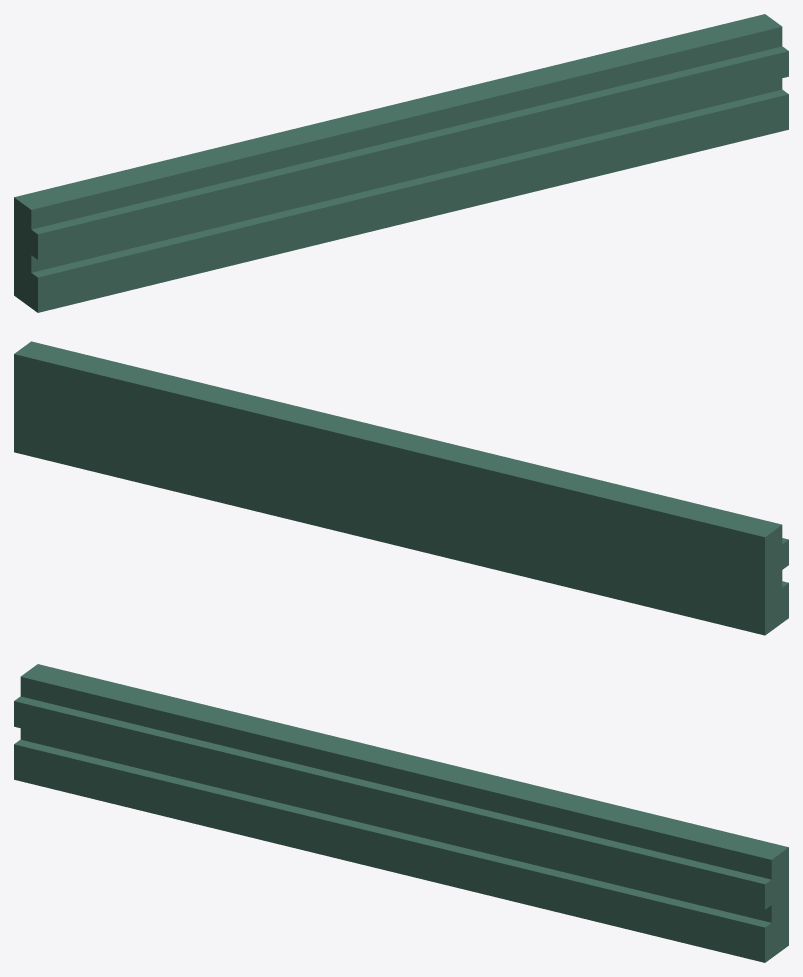
File: SM_Wall_Shutter_Rolled_01.fbx
The picture shows the model from 3 angles, top to bottom: view 1: azimuth 30°, elevation 25°; view 2: azimuth 150°, elevation 25°; view 3: azimuth 330°, elevation 25°; orthographic projection.
Visible parts, largest first — view 1: SM_Wall_Shutter_Rolled_01; view 2: SM_Wall_Shutter_Rolled_01; view 3: SM_Wall_Shutter_Rolled_01.
Boxes of the visible parts, box(x1,y1,x2,y2) form: SM_Wall_Shutter_Rolled_01: box(14, 14, 788, 312); SM_Wall_Shutter_Rolled_01: box(14, 341, 788, 635); SM_Wall_Shutter_Rolled_01: box(14, 664, 788, 962).
Size of the model in its own units: 2 by 0.25 by 0.11.
1 material, 1 textured.
